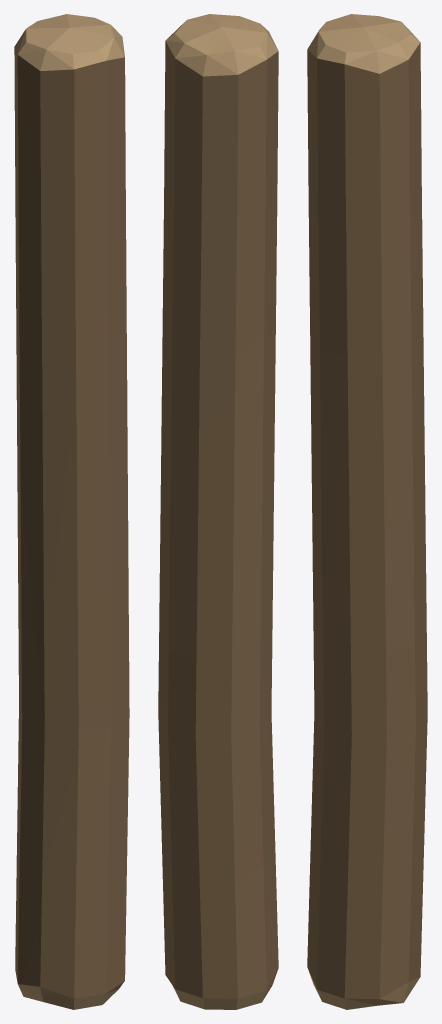
File: Espiga_08.glb
3 renders of one model, left to right at view 1: azimuth 30°, elevation 25°; view 2: azimuth 150°, elevation 25°; view 3: azimuth 330°, elevation 25°, orthographic.
Parts seen in each view (by area): view 1: SM_Prop_Dock_Pole_01_1; view 2: SM_Prop_Dock_Pole_01_1; view 3: SM_Prop_Dock_Pole_01_1.
Part boxes in pixels (left/top/right/bottom): SM_Prop_Dock_Pole_01_1: left=14, top=14, right=129, bottom=1009; SM_Prop_Dock_Pole_01_1: left=158, top=14, right=278, bottom=1009; SM_Prop_Dock_Pole_01_1: left=307, top=14, right=427, bottom=1009.
Bounding box in the file's own units: 0.4924 × 4.43 × 0.4726.
1 material, 1 textured.
